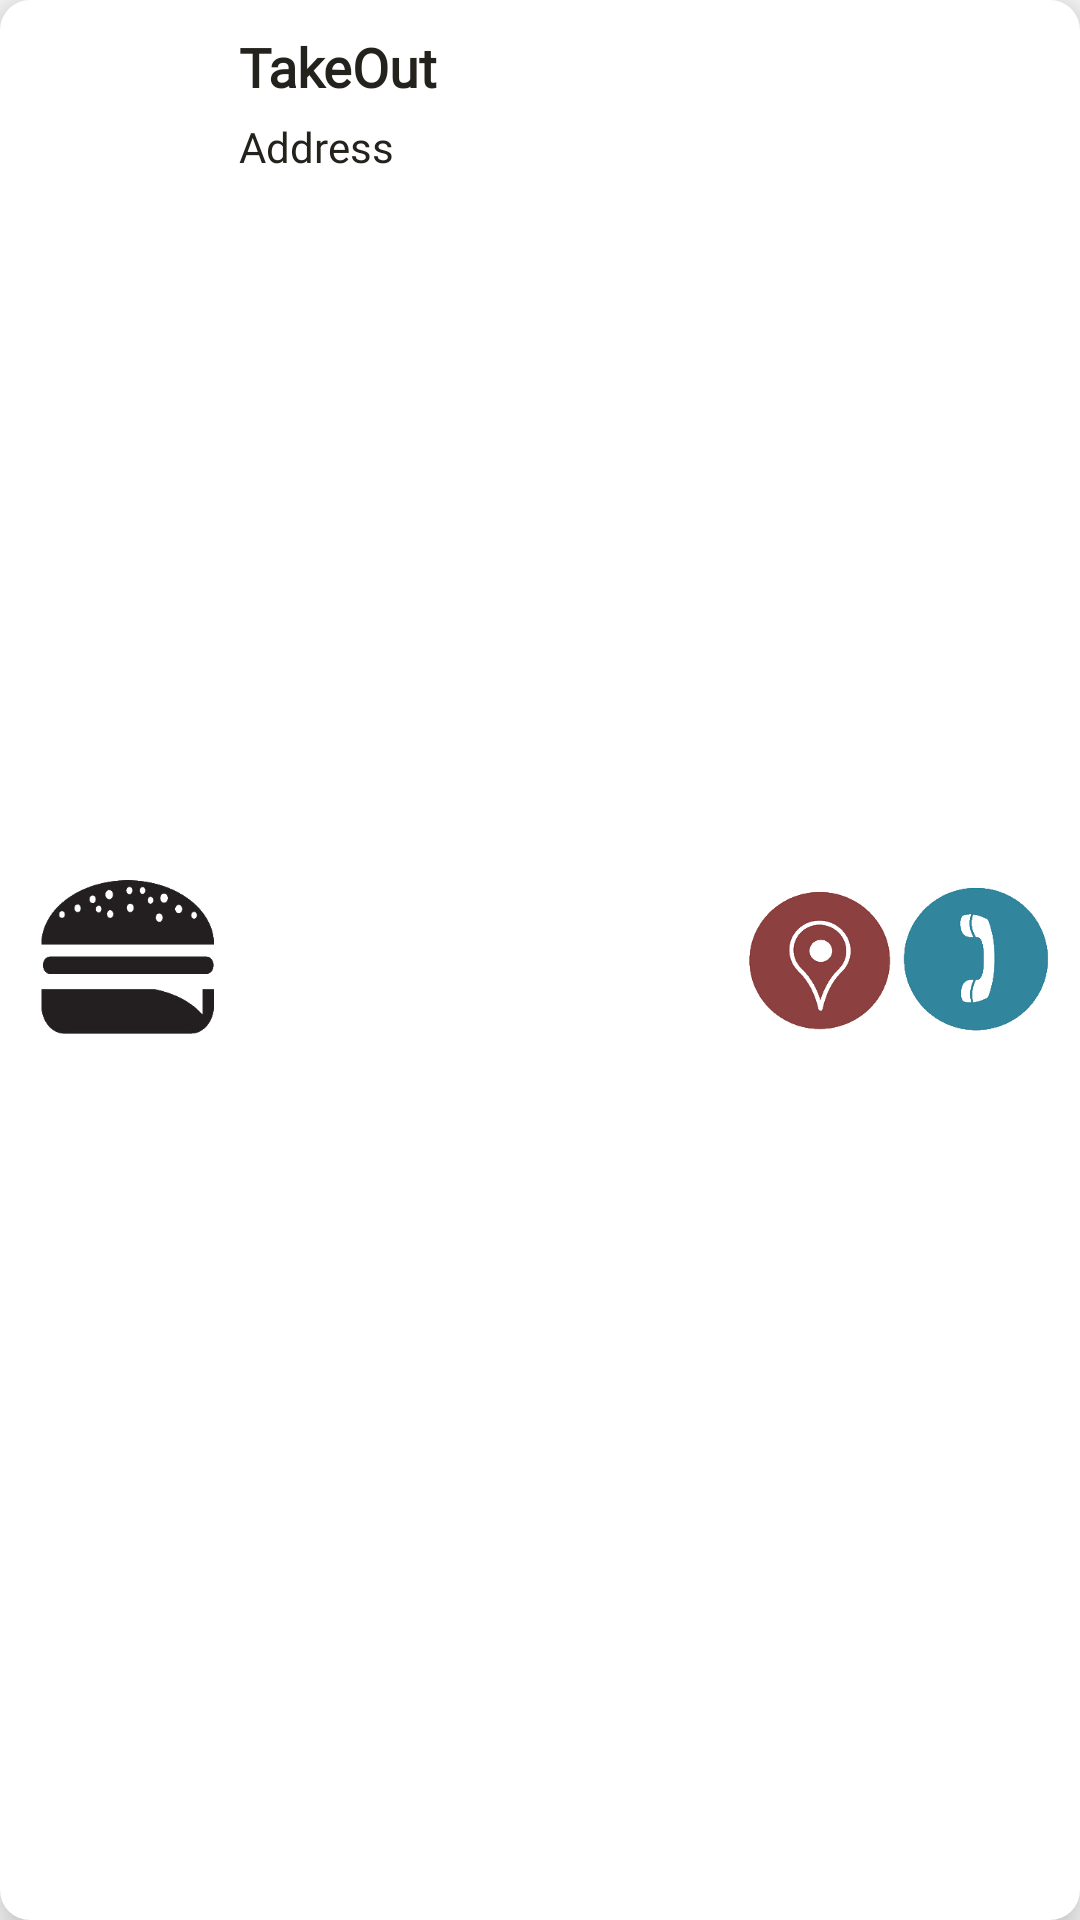

Locate icon controls on the screen. Image size 1080x1920, boxes as (x1, y1, x2, y2).
burgericon: (41, 880, 214, 1034)
call: (903, 888, 1048, 1031)
direction: (749, 892, 891, 1030)
